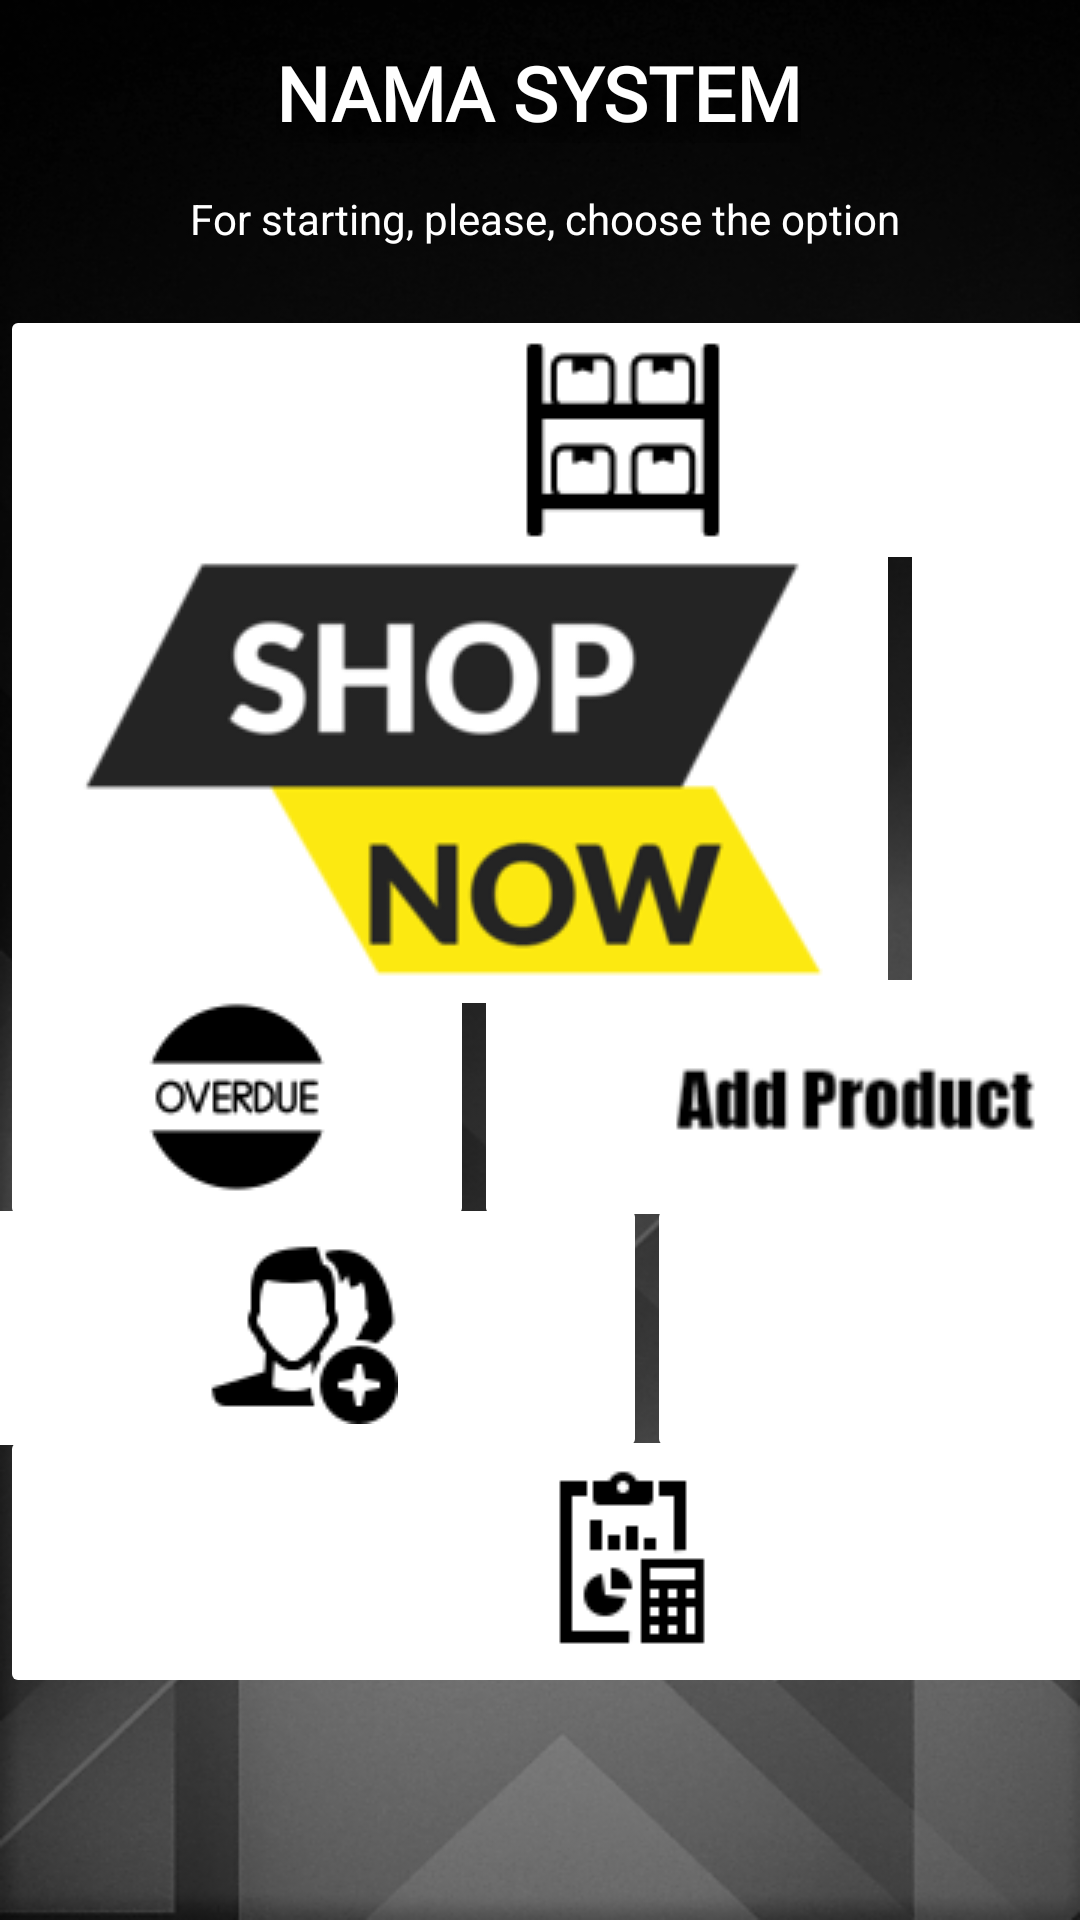

Screen size 1080×1920. Icon name, then its center in pixels as (x,y):
newuser: (304,1335)
